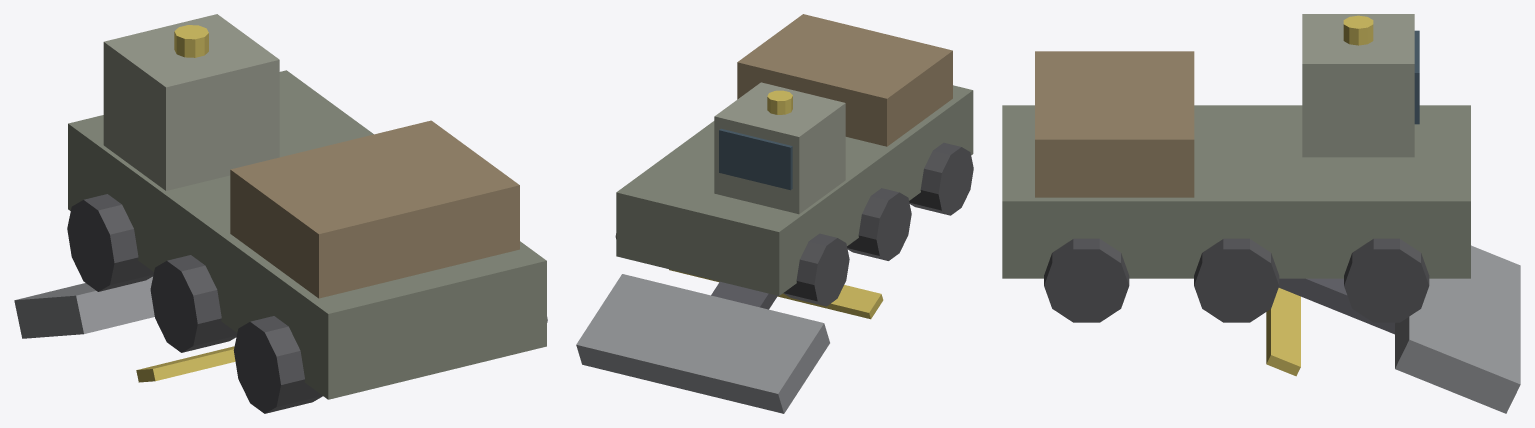
File: western_harvester.glb
3 renders of one model, left to right at view 1: azimuth 30°, elevation 25°; view 2: azimuth 150°, elevation 25°; view 3: azimuth 270°, elevation 25°, orthographic. The views are drawn at different scales.
Visible parts, largest first — view 1: hull, Hopper, Cab, Bucket, wheel_l01, wheel_l02, wheel_l03, BucketLip, radar; view 2: hull, Bucket, Hopper, Cab, Screen, wheel_l03, wheel_l02, wheel_l01, BucketLip, Arms, radar; view 3: hull, Hopper, Cab, Bucket, wheel_r03, wheel_r01, wheel_r02, BucketLip, Arms, radar, Screen.
Part boxes in pixels (x1,y1,x2,y2): hull: (68,70,546,399); Hopper: (230,120,519,298); Cab: (103,14,279,190); Bucket: (14,276,154,338); wheel_l01: (233,316,322,413); wheel_l02: (150,255,237,352); wheel_l03: (67,194,153,291); BucketLip: (136,346,235,382); radar: (174,25,208,57); hull: (616,85,973,295); Bucket: (576,274,829,413); Hopper: (737,14,952,146); Cab: (714,82,845,214); Screen: (719,128,792,190); wheel_l03: (783,233,849,306); wheel_l02: (847,188,911,260); wheel_l01: (909,142,973,215); BucketLip: (669,269,883,319); Arms: (711,281,777,309); radar: (767,90,792,114); hull: (1002,105,1470,278); Hopper: (1035,51,1194,197); Cab: (1302,14,1414,157); Bucket: (1395,245,1520,413); wheel_r03: (1344,238,1429,322); wheel_r01: (1044,238,1129,322); wheel_r02: (1194,238,1279,322); BucketLip: (1266,288,1300,376); Arms: (1279,278,1394,334); radar: (1343,15,1373,45); Screen: (1414,30,1419,124).
Size of the model in its own units: 3.97 by 4.83 by 7.3.
